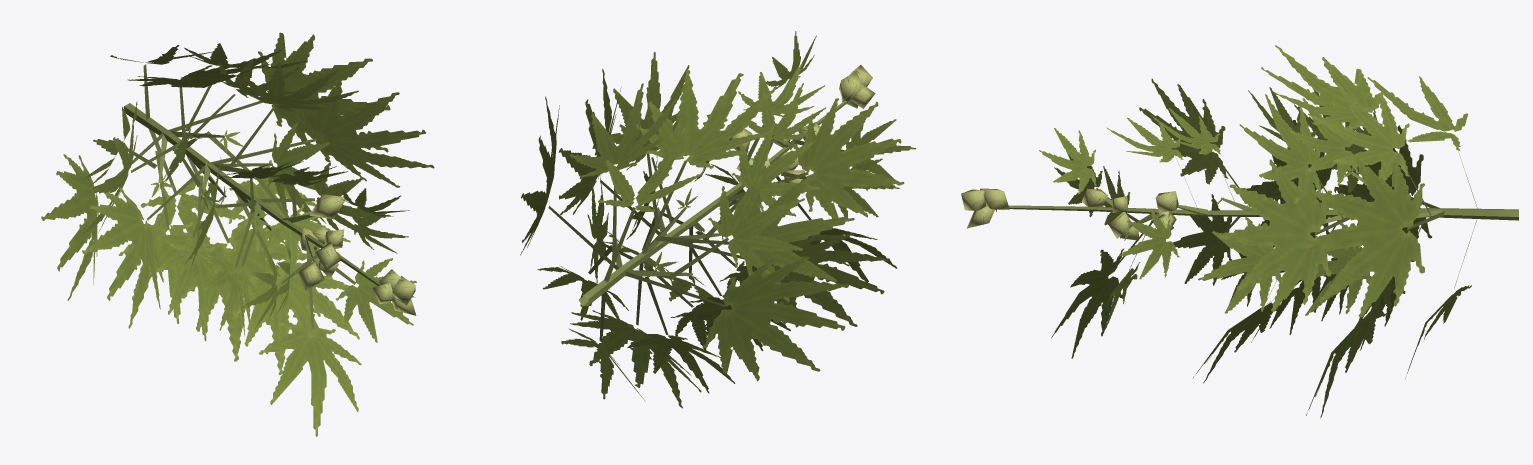
Rendered from p_male_landrace_preflower_c1_cards.obj.
3 views of the same model, side by side, from view 1: azimuth 30°, elevation 25°; view 2: azimuth 150°, elevation 25°; view 3: azimuth 270°, elevation 25° (orthographic). The views are drawn at different scales.
Bounding box in the file's own units: 1.52 × 1.36 × 1.82.
Materials: 1 (1 with a texture image).
